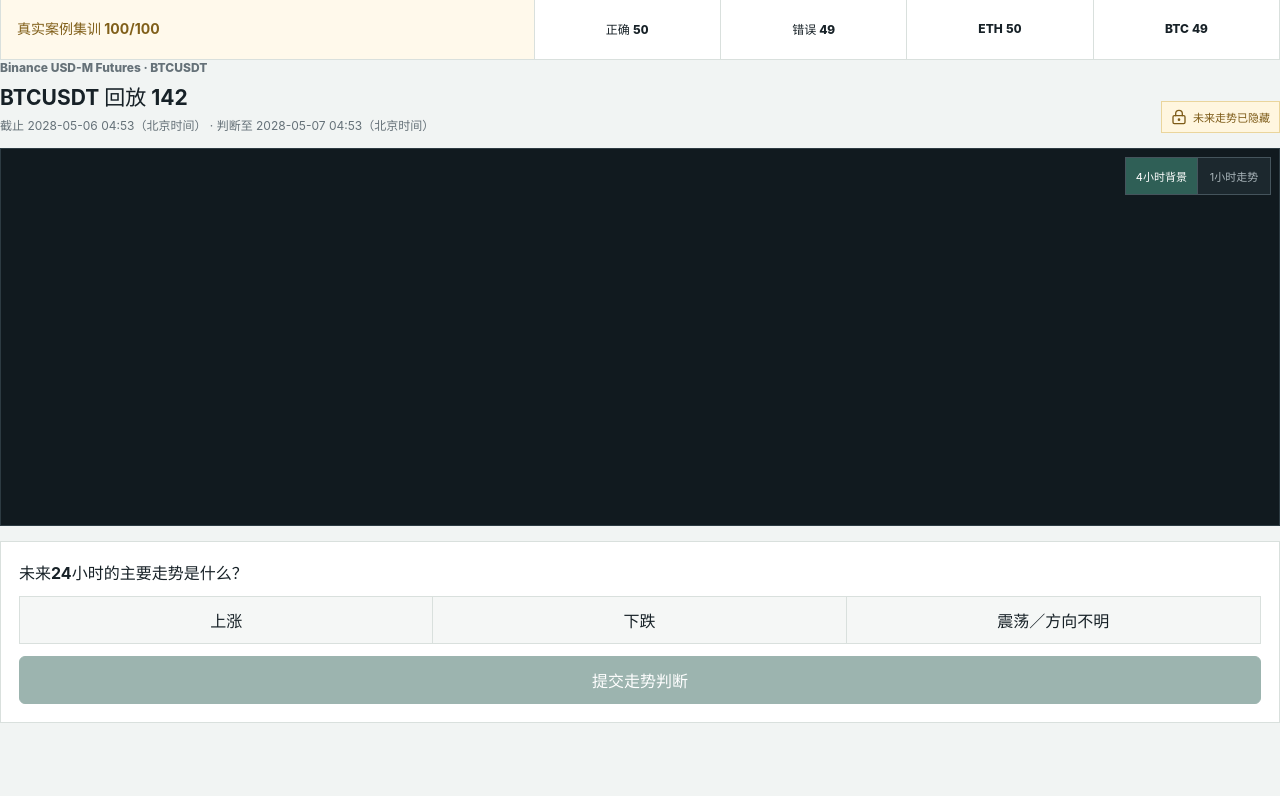
it: CaseTrainingStep › labels the last continue action as training completion
Click the radio button labelled "上涨". click: (227, 620)
box: top-left (20, 597), bottom-right (433, 643)
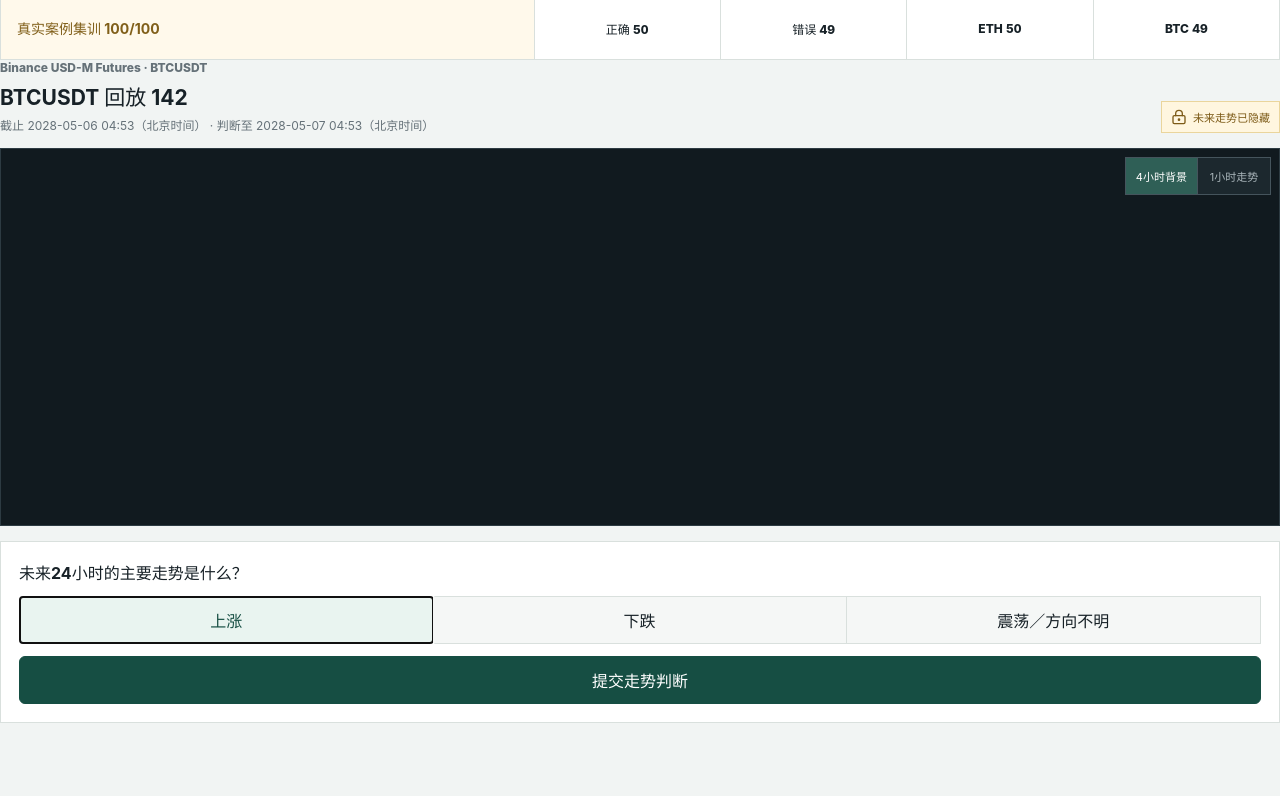
Click the button "提交走势判断". click: (640, 680)
box: top-left (19, 656), bottom-right (1261, 704)
(page scrolled)
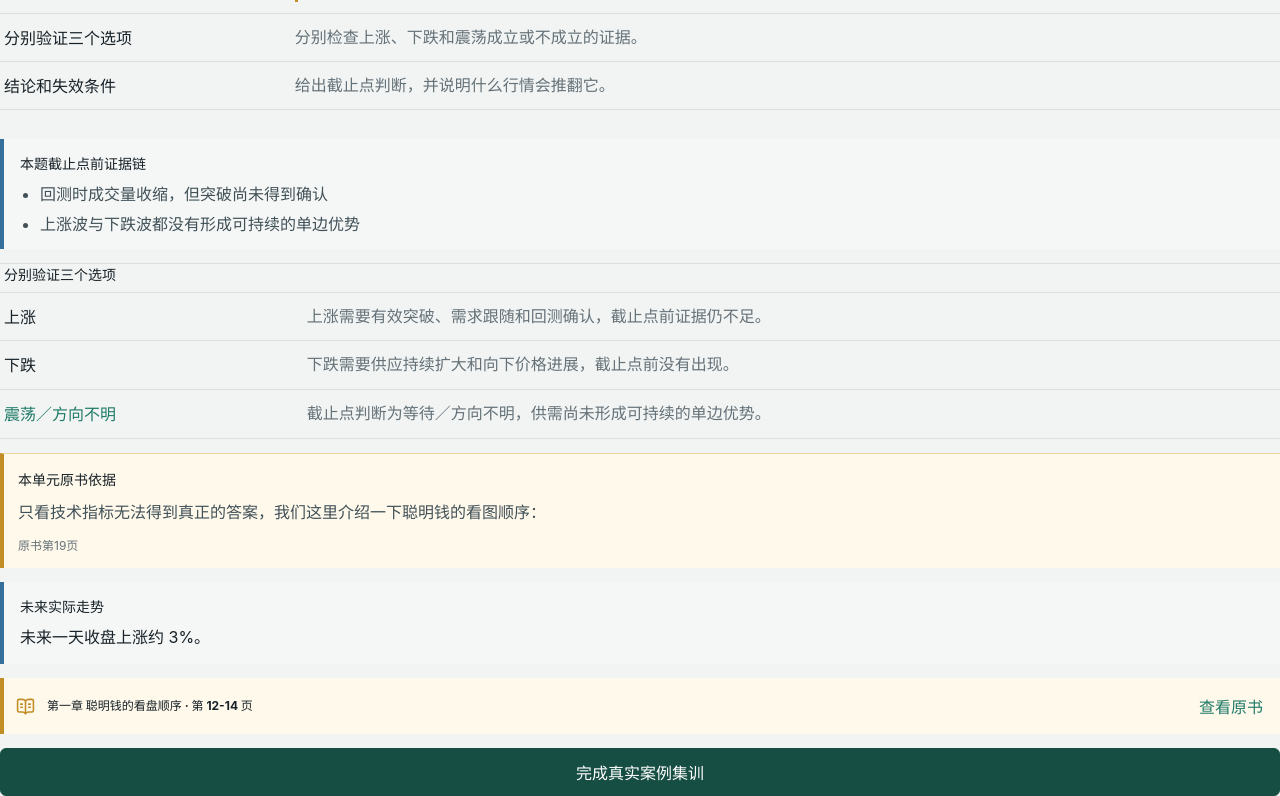
Expected: the button "完成真实案例集训" is shown, top-left (0, 748), bottom-right (1279, 795)
